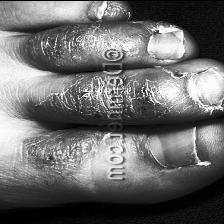Toxin: (39, 26, 99, 68), (131, 76, 188, 118), (102, 20, 186, 46), (36, 131, 94, 164), (53, 83, 102, 119), (131, 48, 177, 64)
